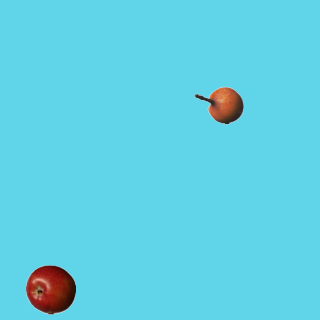Apple Braeburn: (25, 264, 75, 314)
Granadilla: (193, 80, 243, 130)
